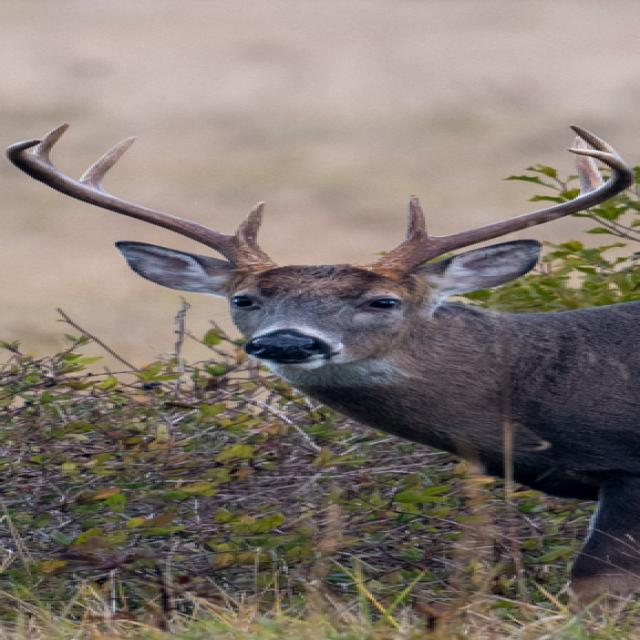L-F: (350, 147, 634, 280)
L-G1: (400, 194, 431, 244)
L-G3: (565, 123, 620, 157)
R-F: (4, 138, 281, 274)
R-G1: (232, 199, 268, 244)
R-G2: (77, 136, 139, 193)
R-G3: (31, 122, 71, 167)
